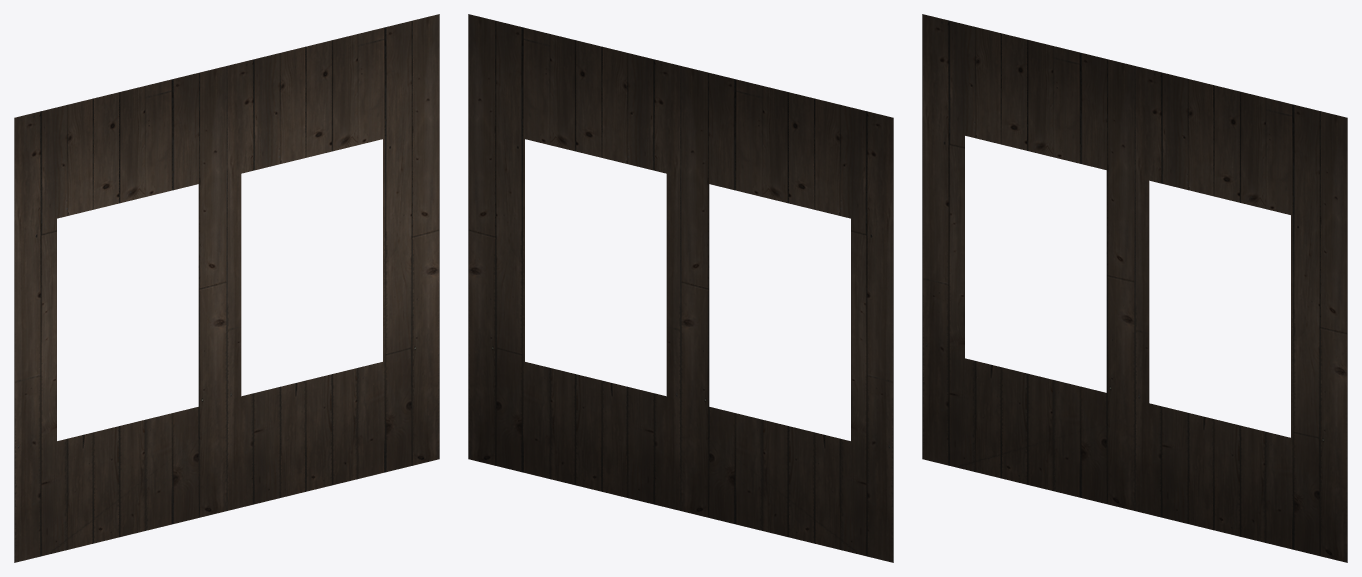
The model's file is Wall.W_3x3_Window.Double.fbx.
The picture shows the model from 3 angles, left to right: view 1: azimuth 30°, elevation 25°; view 2: azimuth 150°, elevation 25°; view 3: azimuth 330°, elevation 25°; orthographic projection.
Parts seen in each view (by area): view 1: Wall.W_3x3_Window.Double; view 2: Wall.W_3x3_Window.Double; view 3: Wall.W_3x3_Window.Double.
Boxes of the visible parts, bbox=[...] form: Wall.W_3x3_Window.Double: bbox=[14, 14, 439, 562]; Wall.W_3x3_Window.Double: bbox=[468, 14, 893, 562]; Wall.W_3x3_Window.Double: bbox=[922, 14, 1347, 562].
Bounding box in the file's own units: 300 × 300 × 4.01e-05.
